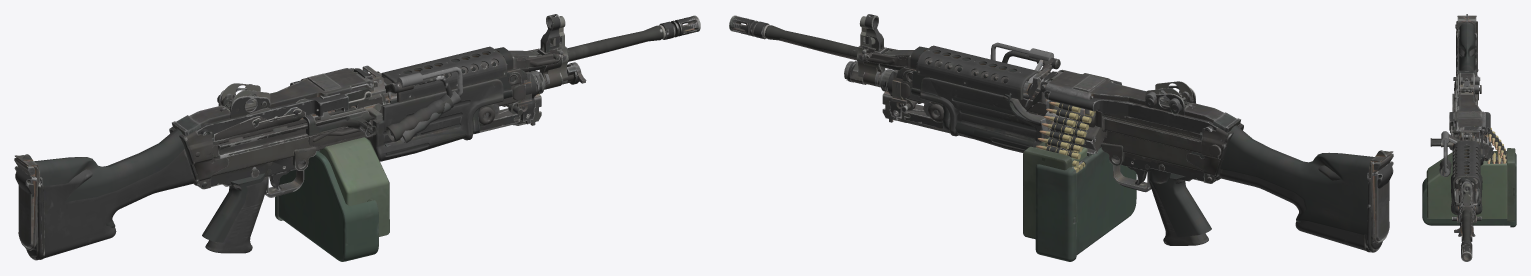
The picture shows the model from 3 angles, left to right: view 1: azimuth 30°, elevation 25°; view 2: azimuth 150°, elevation 25°; view 3: azimuth 270°, elevation 25°; orthographic projection. The views are drawn at different scales.
Visible parts, largest first — view 1: weapon_mach_m249.vmdl_c.body_hd, weapon_mach_m249.vmdl_c.body_legacy; view 2: weapon_mach_m249.vmdl_c.body_hd, weapon_mach_m249.vmdl_c.body_legacy; view 3: weapon_mach_m249.vmdl_c.body_legacy, weapon_mach_m249.vmdl_c.body_hd.
Boxes of the visible parts, <box> form: weapon_mach_m249.vmdl_c.body_hd: <box>14,14,700,261</box>; weapon_mach_m249.vmdl_c.body_legacy: <box>14,16,695,250</box>; weapon_mach_m249.vmdl_c.body_hd: <box>729,14,1393,261</box>; weapon_mach_m249.vmdl_c.body_legacy: <box>732,16,1393,243</box>; weapon_mach_m249.vmdl_c.body_legacy: <box>1426,14,1515,261</box>; weapon_mach_m249.vmdl_c.body_hd: <box>1422,24,1516,261</box>.
Bounding box in the file's own units: 47.81 × 11.84 × 8.55.
Materials: 2 (2 with a texture image).
